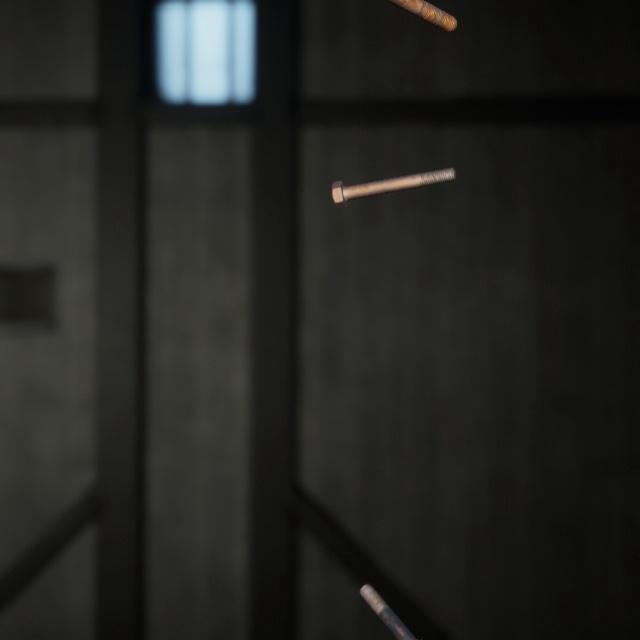bolt: (355, 557, 438, 640), (327, 149, 460, 200), (390, 0, 461, 31)
